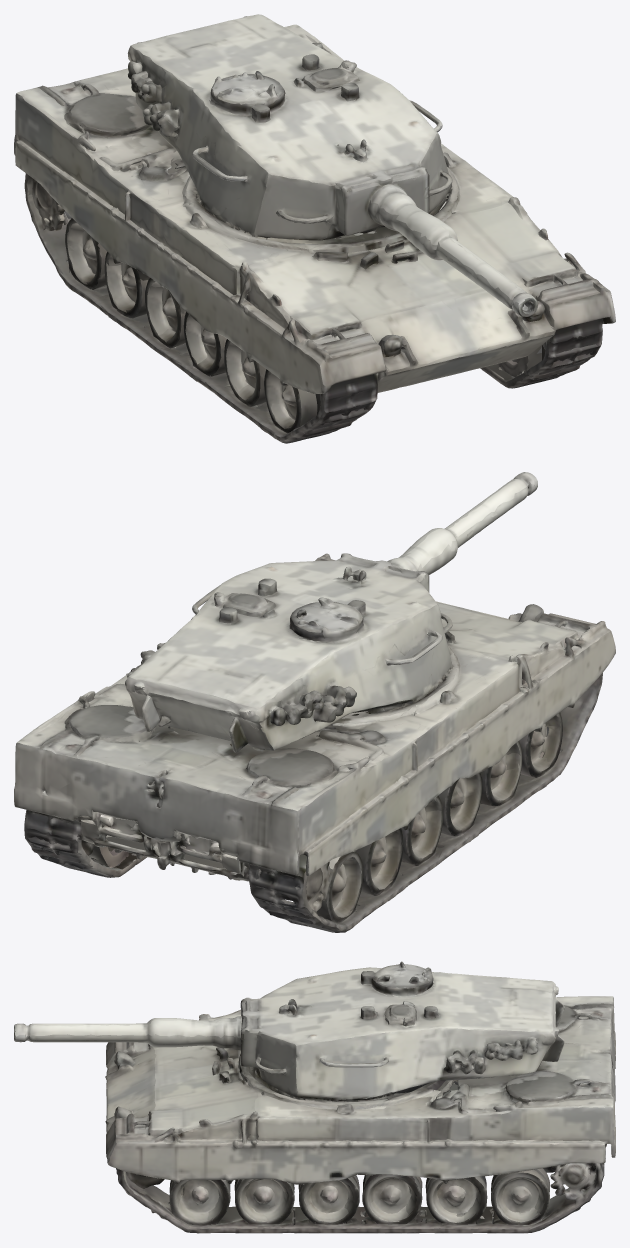
File: land_main_v2_parts.glb
3 views of the same model, one above another, from view 1: azimuth 30°, elevation 25°; view 2: azimuth 150°, elevation 25°; view 3: azimuth 270°, elevation 25° (orthographic). The views are drawn at different scales.
Size of the model in its own units: 0.35 by 0.2726 by 0.7594.
Materials: 7 (7 with a texture image).
